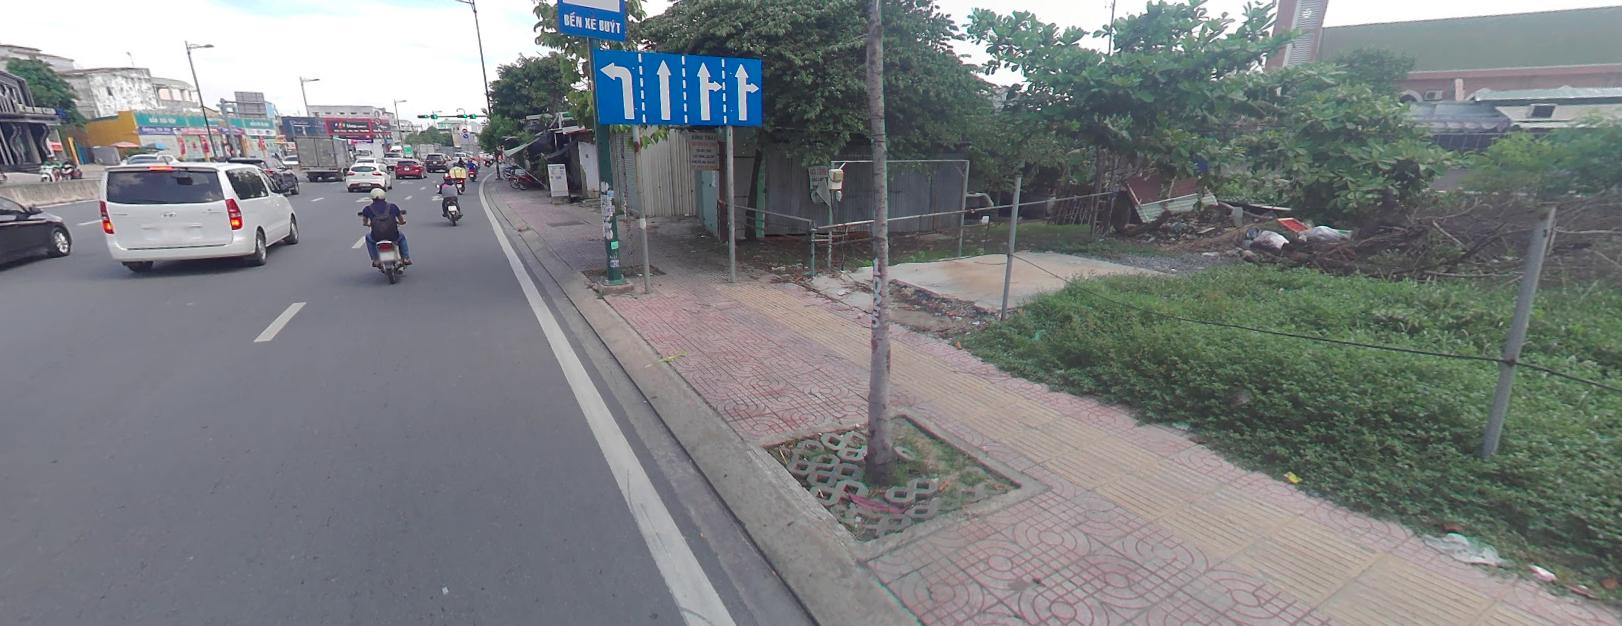Cam nguoc chieu: (462, 127, 465, 131)
Hieu lenh: (462, 132, 468, 136)
